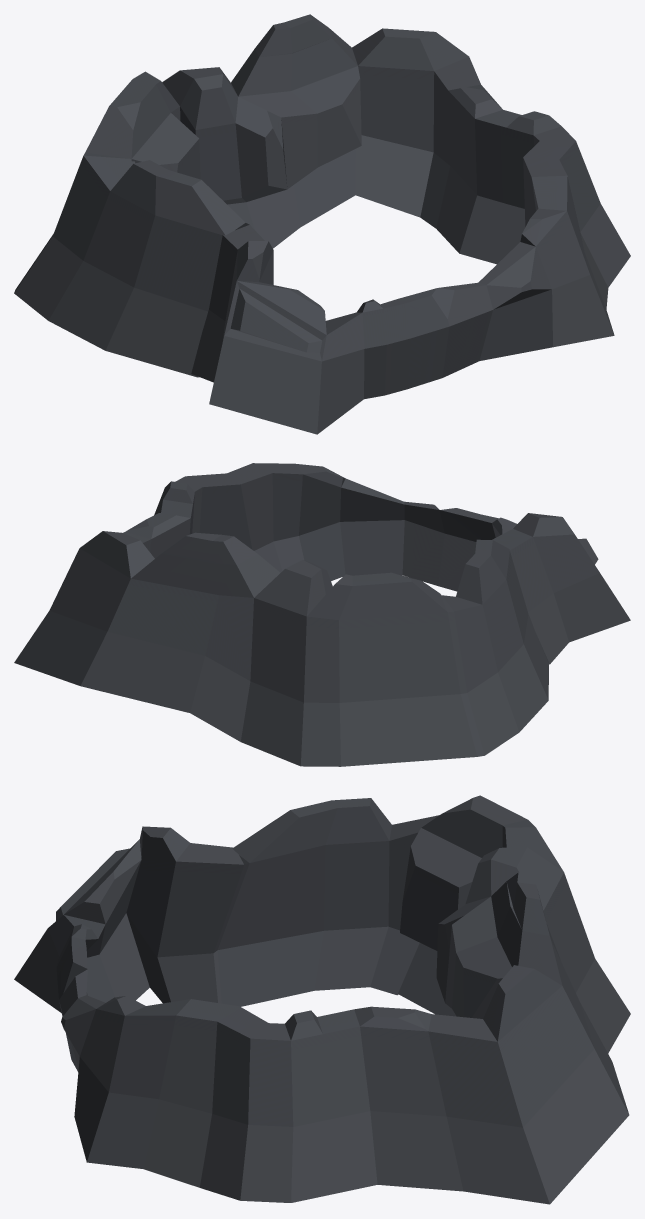
Rendered from rock1.obj.
3 renders of one model, top to bottom at view 1: azimuth 30°, elevation 25°; view 2: azimuth 150°, elevation 25°; view 3: azimuth 270°, elevation 25°, orthographic. The views are drawn at different scales.
Size of the model in its own units: 10.81 by 4.16 by 10.38.
1 material, 1 textured.
